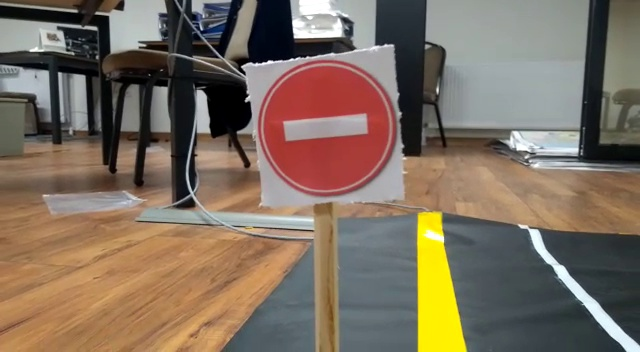girisi_olmayan_yol: (244, 56, 402, 198)
